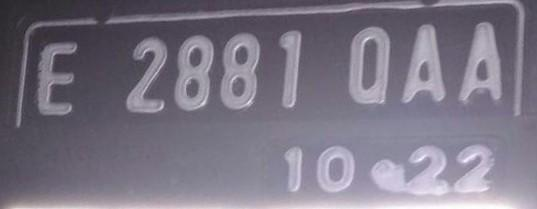clone-license-plate: (10, 2, 536, 198)
